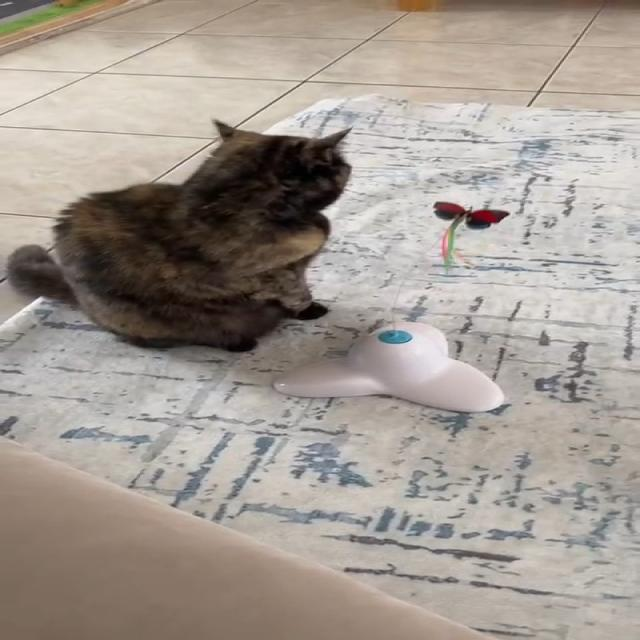authorized: (6, 117, 353, 352)
